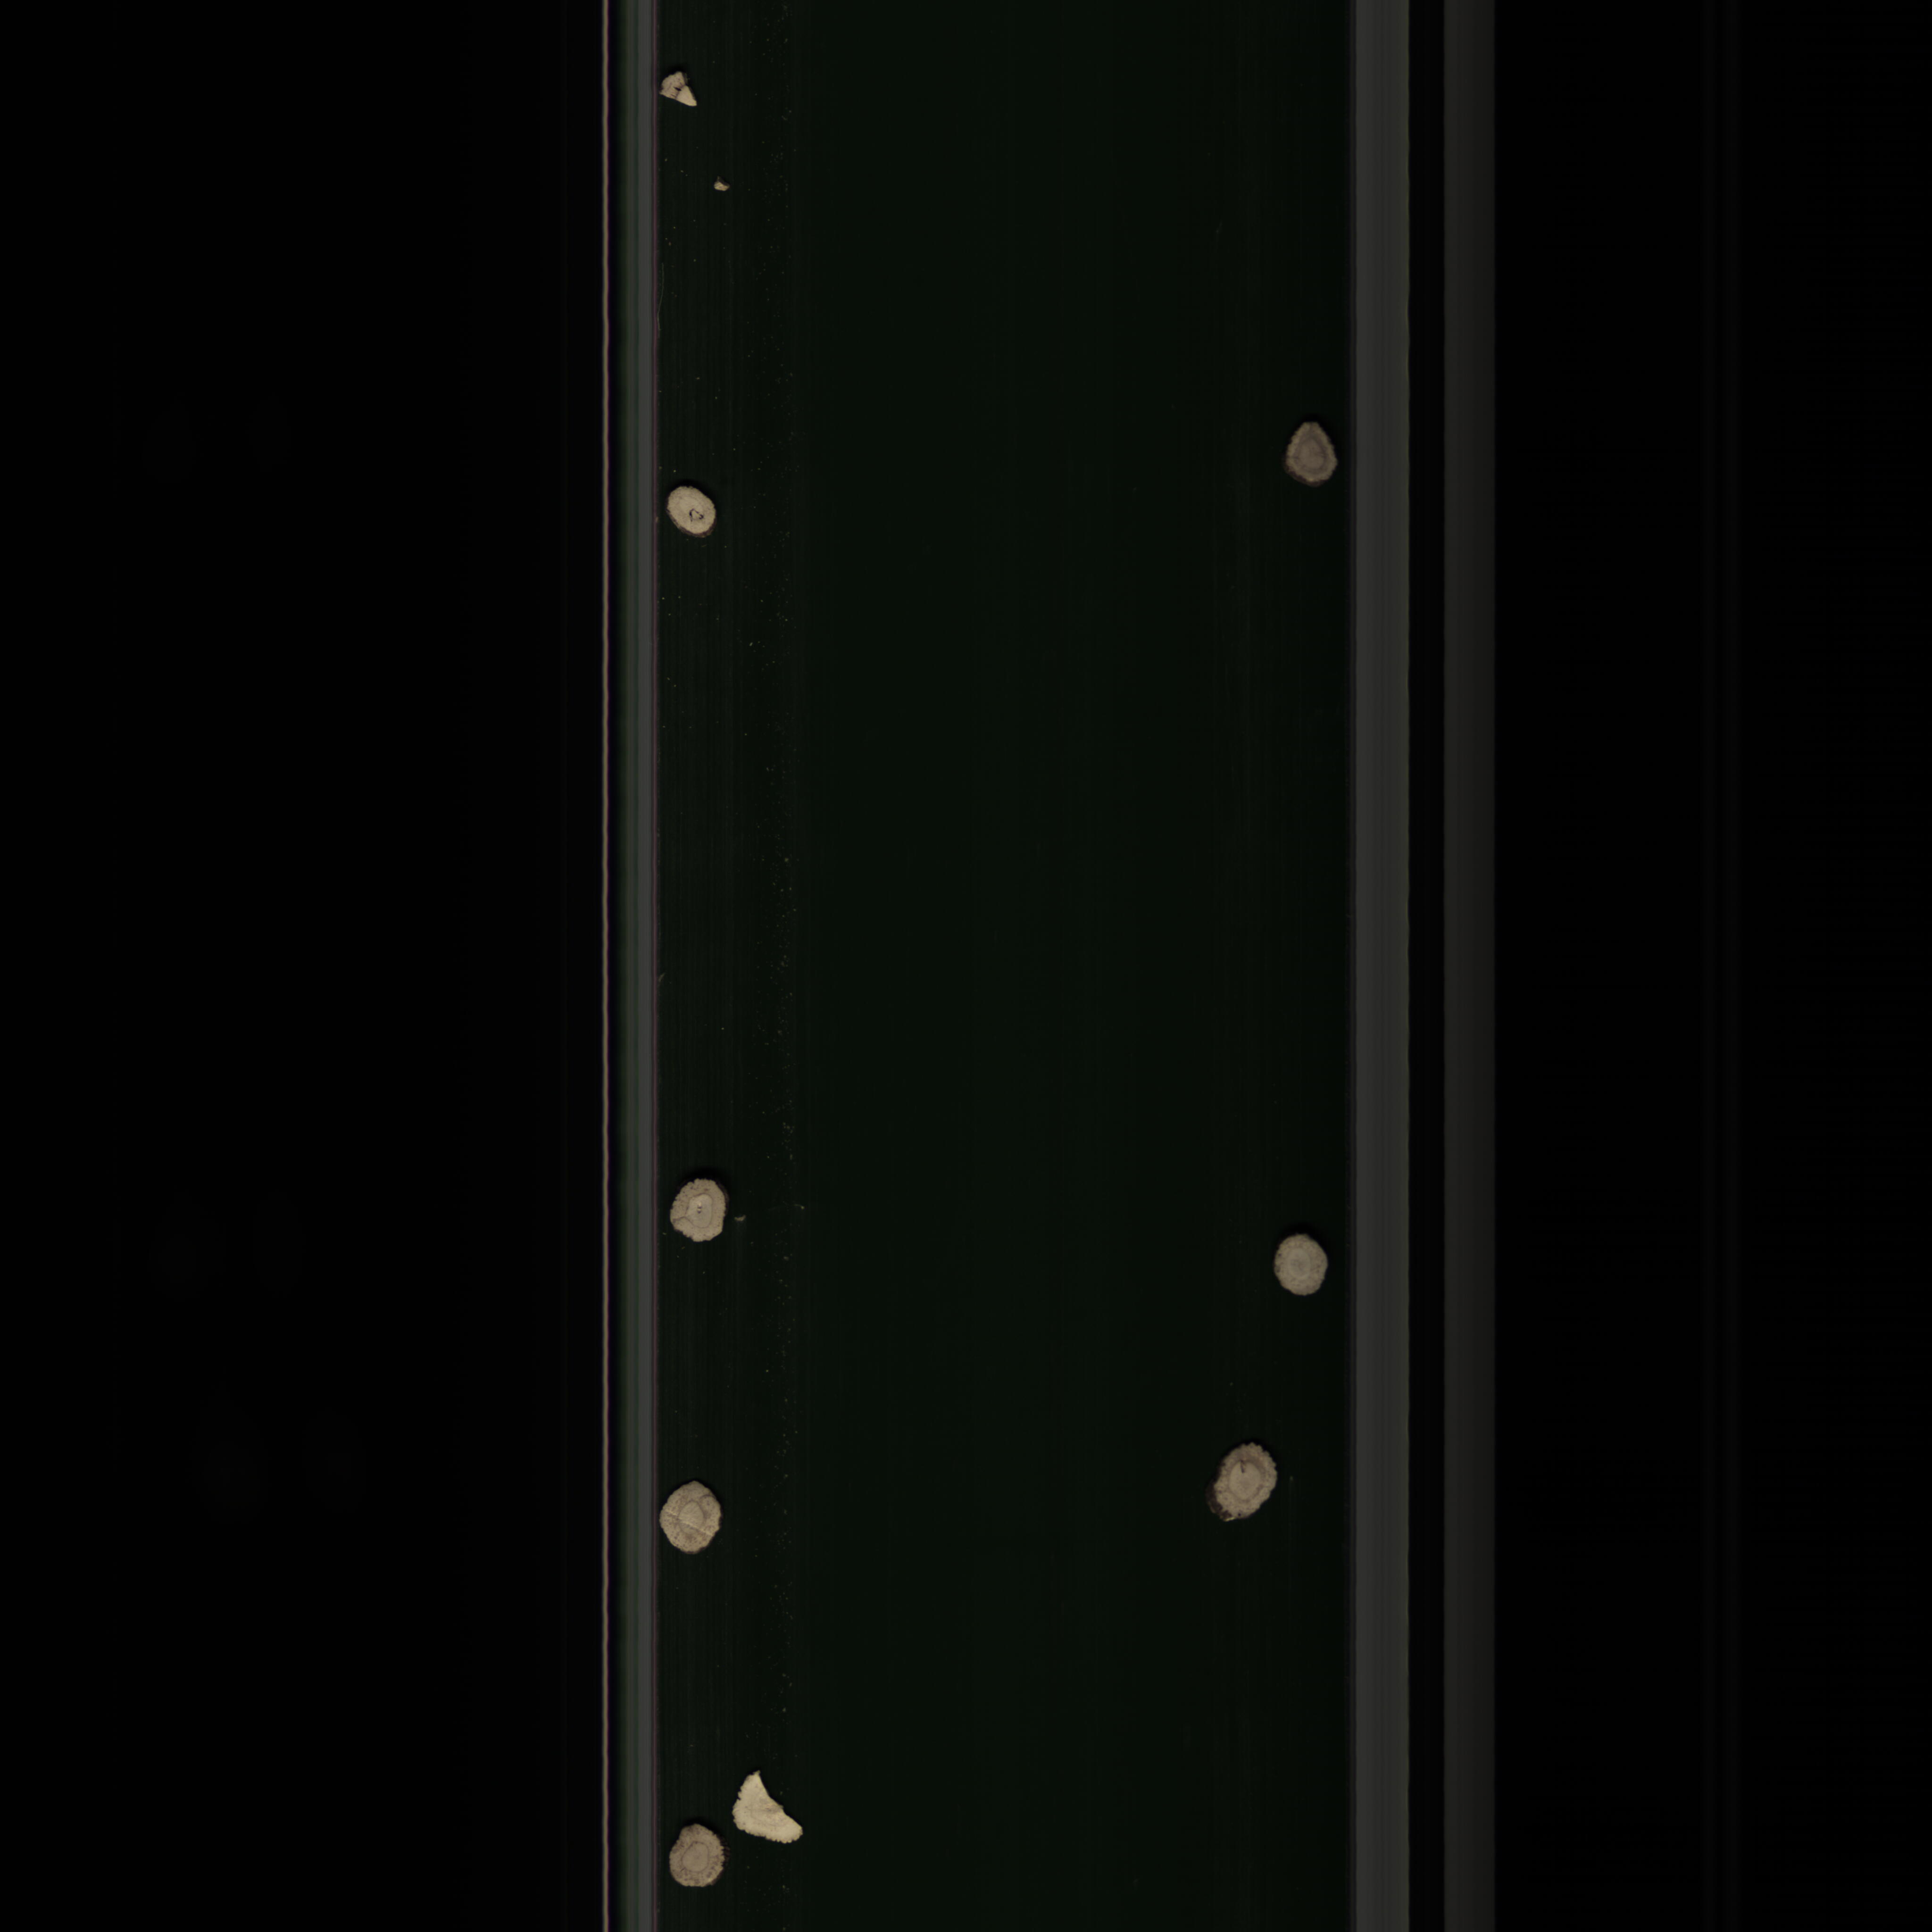debris: (722, 1764, 814, 1847), (655, 71, 701, 110)
moldy: (1272, 410, 1348, 490)
